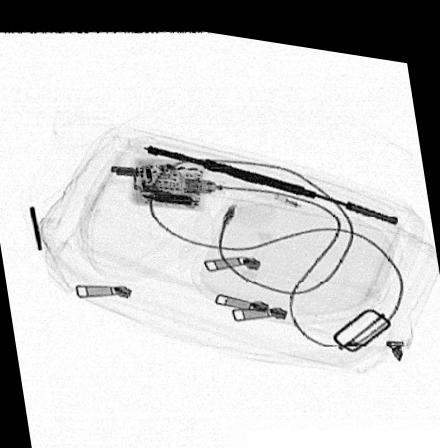Gun: (138, 135, 402, 215)
